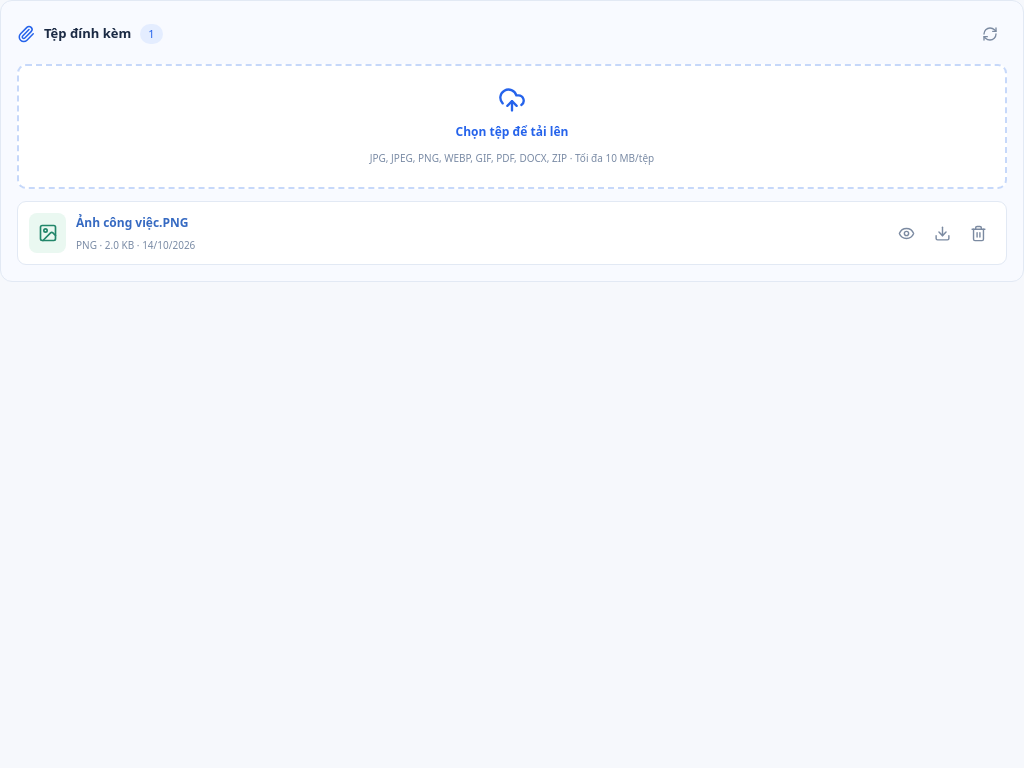
Scenario: Task attachment management › closes preview when the previewed file is deleted and restores body scrolling
Check: the file field named "Chọn tệp đính kèm" is enabled, box [0,85,1023,127]
Step 1. Click the button named "Xem Ảnh công việc.PNG" → x=906, y=233, box [889,216,923,250]
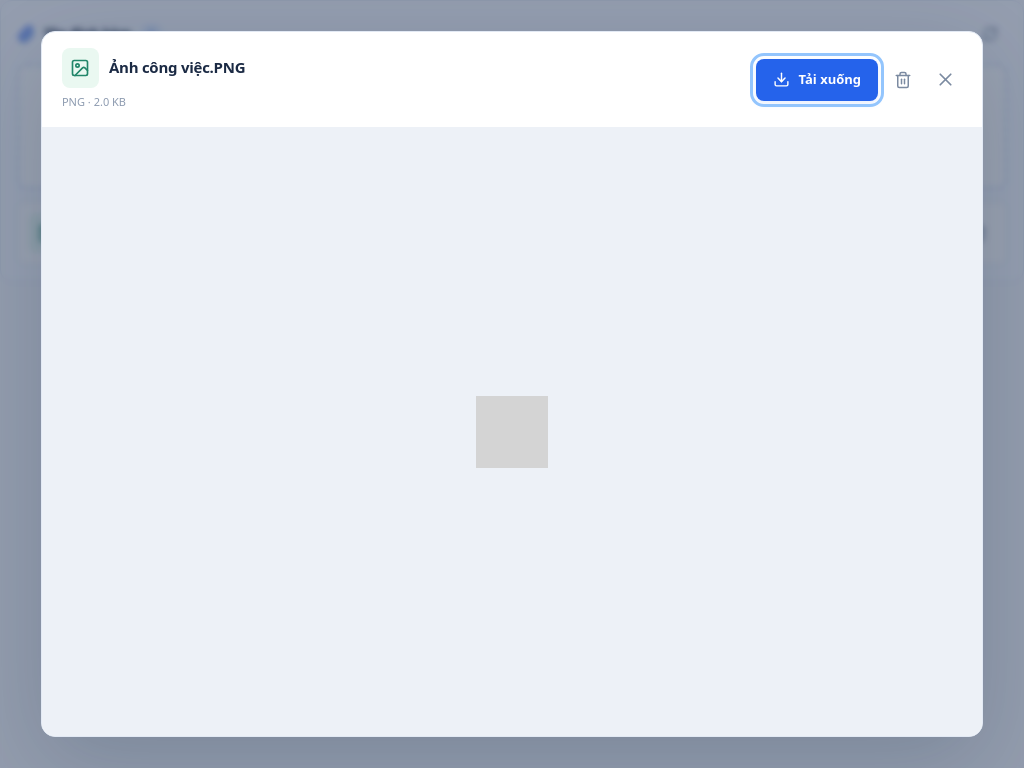
Step 2. Click the button named "Xóa Ảnh công việc.PNG" → x=903, y=80, box [886,63,920,97]
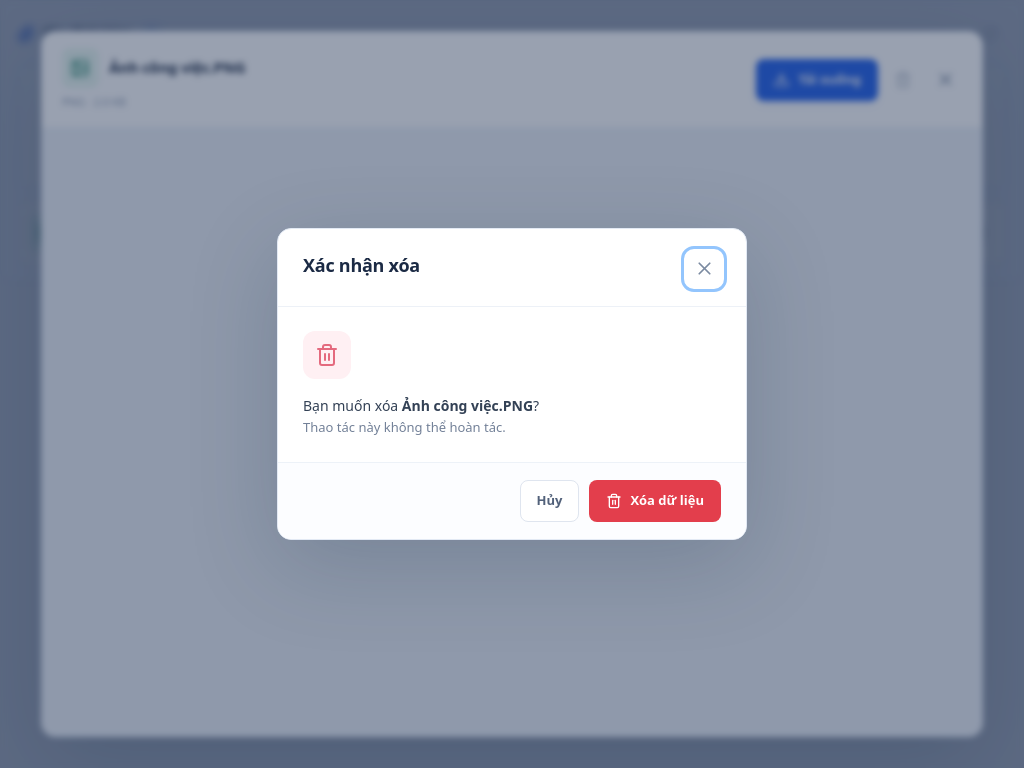
Check: the number of dialogs is 2
Step 3. Click the button "Xóa dữ liệu" → x=655, y=501, box [589,480,721,522]
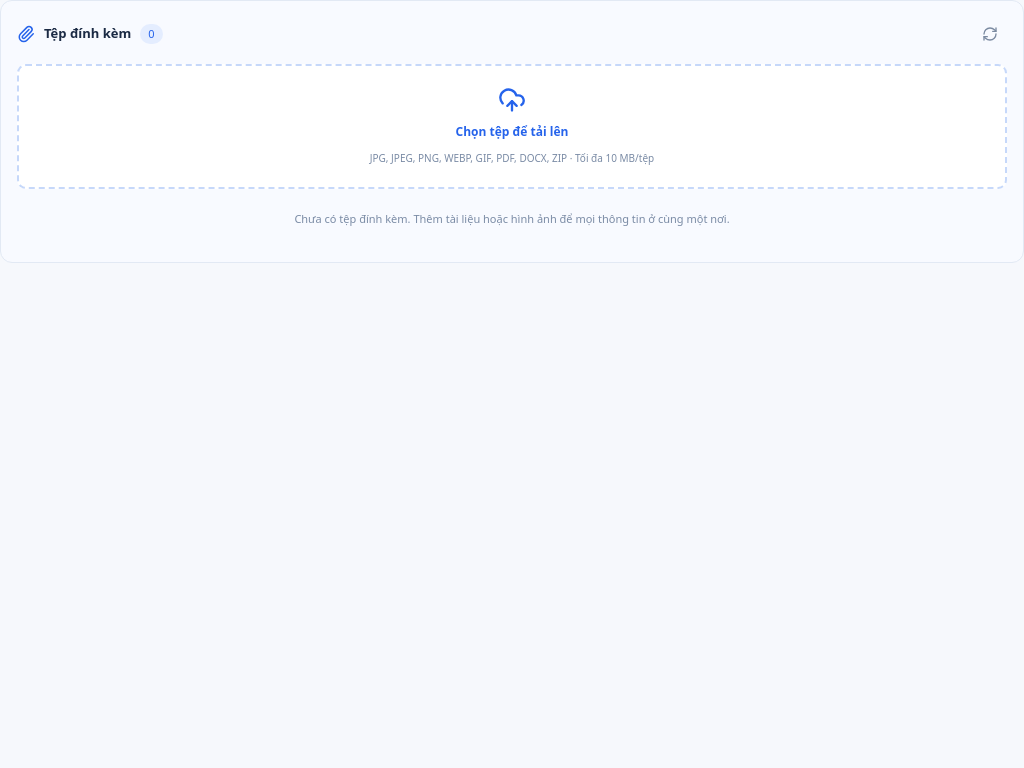
Check: the dialog is gone
